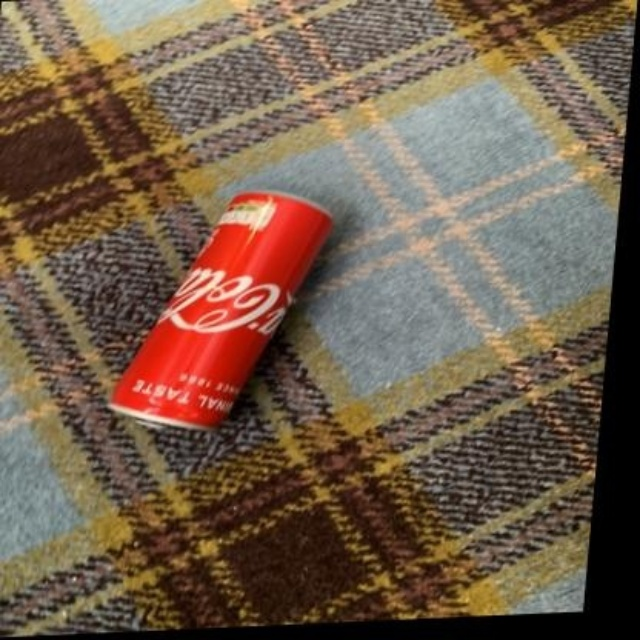trash: (109, 192, 331, 428)
